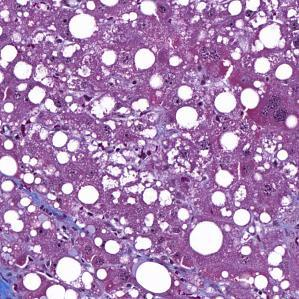fibrosis: (36, 196, 88, 240)
